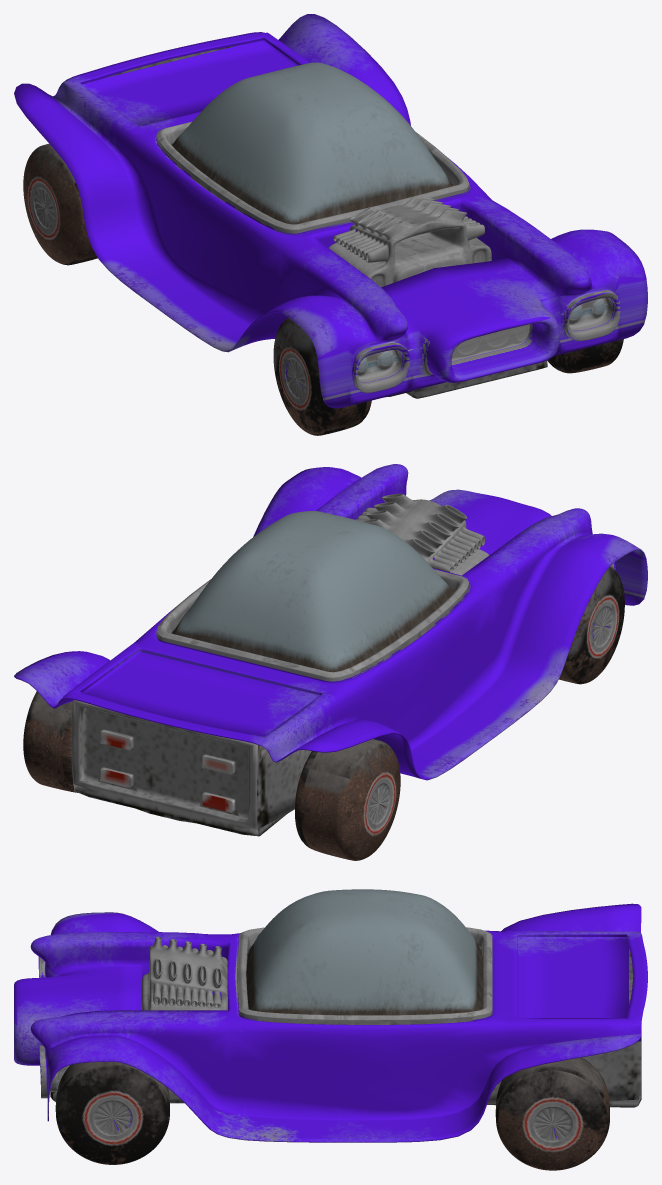
3 views of the same model, one above another, from view 1: azimuth 30°, elevation 25°; view 2: azimuth 150°, elevation 25°; view 3: azimuth 270°, elevation 25° (orthographic). The views are drawn at different scales.
Parts seen in each view (by area): view 1: Cube.000, Cube.001, Cube.002; view 2: Cube.000, Cube.002, Cube.001; view 3: Cube.000, Cube.002, Cube.001.
Boxes of the visible parts, left/top/right/bottom form: Cube.000: left=14, top=14, right=647, bottom=408; Cube.001: left=172, top=62, right=452, bottom=224; Cube.002: left=23, top=45, right=623, bottom=435; Cube.000: left=14, top=464, right=647, bottom=780; Cube.002: left=23, top=493, right=624, bottom=860; Cube.001: left=172, top=511, right=453, bottom=672; Cube.000: left=14, top=903, right=647, bottom=1142; Cube.002: left=50, top=936, right=641, bottom=1170; Cube.001: left=246, top=889, right=482, bottom=1015.
Bounding box in the file's own units: 313 × 189 × 551.
2 materials, 2 textured.
